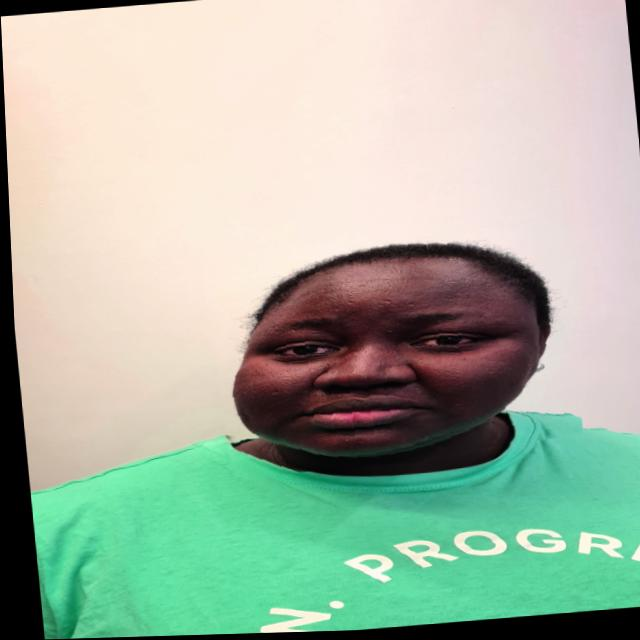sad: (199, 228, 579, 480)
